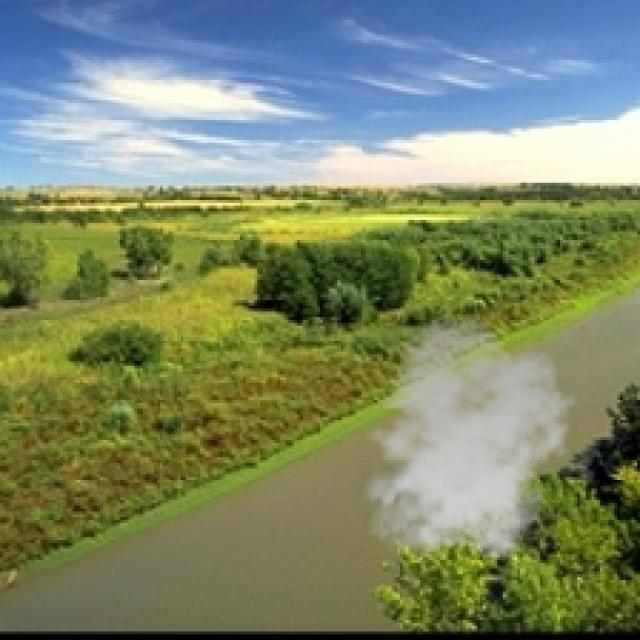smoke: (352, 317, 577, 569)
